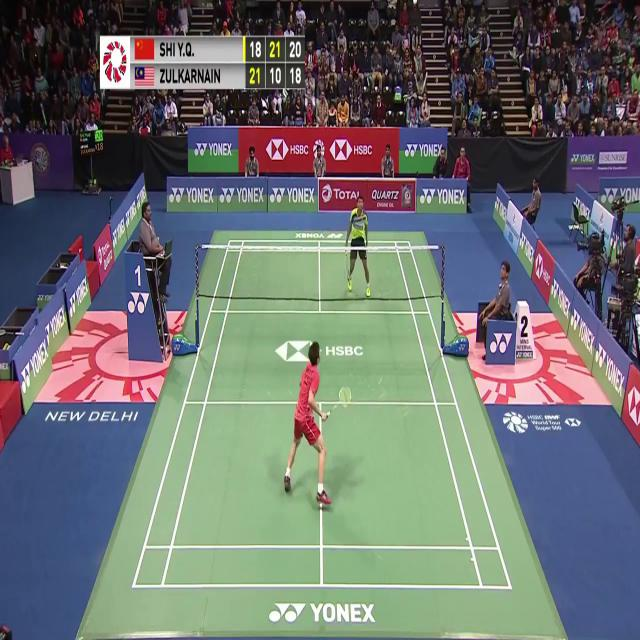Shuttlecock: (411, 0, 418, 10)
